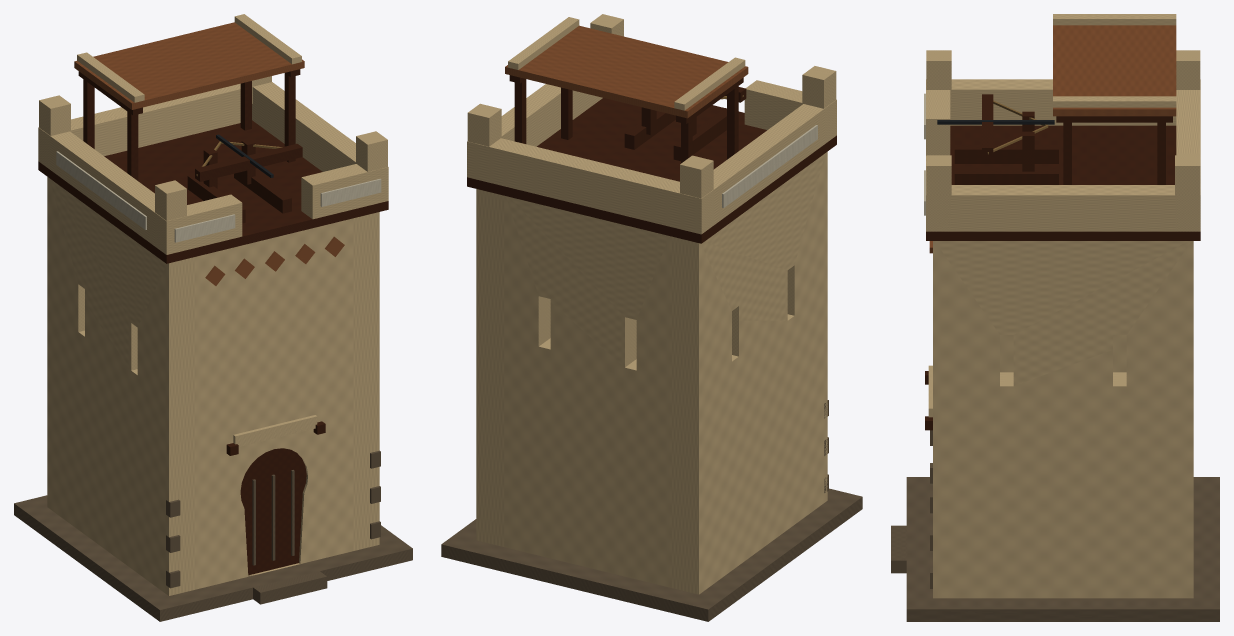
Rendered from Berber_Outpost_Age4_springald.fbx.
3 renders of one model, left to right at view 1: azimuth 30°, elevation 25°; view 2: azimuth 150°, elevation 25°; view 3: azimuth 270°, elevation 25°, orthographic. The views are drawn at different scales.
Parts seen in each view (by area): view 1: west_thick_wall, south_thick_wall, lookout_floor, tower_foundation, fitted_flat_canopy, east_thick_wall, lookout_parapet_back, horseshoe_door, lookout_parapet_side, lookout_parapet_side.001, lookout_parapet_front.001, lookout_parapet_front (+17 smaller); view 2: north_thick_wall, west_thick_wall, tower_foundation, lookout_parapet_back, lookout_floor, fitted_flat_canopy, east_thick_wall, lookout_parapet_side, lookout_parapet_side.001, lookout_parapet_front, neutral_owner_side_band, corner_merlon.003 (+9 smaller); view 3: east_thick_wall, tower_foundation, lookout_floor, lookout_parapet_side.001, fitted_flat_canopy, lookout_parapet_side, lookout_parapet_back, springald_stock_runner.001, springald_stock_runner, lookout_parapet_front, stone_crown_coping.001, stone_crown_coping (+13 smaller).
Boxes of the visible parts, left/top/right/bottom form: west_thick_wall: left=47, top=177, right=195, bottom=595; south_thick_wall: left=195, top=218, right=352, bottom=589; lookout_floor: left=38, top=120, right=388, bottom=263; tower_foundation: left=14, top=495, right=412, bottom=621; fitted_flat_canopy: left=74, top=22, right=304, bottom=109; east_thick_wall: left=353, top=212, right=379, bottom=550; lookout_parapet_back: left=38, top=83, right=240, bottom=168; horseshoe_door: left=240, top=448, right=306, bottom=575; lookout_parapet_side: left=49, top=131, right=160, bottom=248; lookout_parapet_side.001: left=252, top=82, right=355, bottom=171; lookout_parapet_front.001: left=301, top=164, right=388, bottom=219; lookout_parapet_front: left=155, top=194, right=242, bottom=254; north_thick_wall: left=504, top=196, right=670, bottom=587; west_thick_wall: left=671, top=152, right=827, bottom=594; tower_foundation: left=441, top=488, right=862, bottom=621; lookout_parapet_back: left=467, top=138, right=713, bottom=234; lookout_floor: left=467, top=98, right=836, bottom=243; fitted_flat_canopy: left=505, top=25, right=748, bottom=118; east_thick_wall: left=476, top=189, right=504, bottom=547; lookout_parapet_side: left=713, top=104, right=830, bottom=225; lookout_parapet_side.001: left=501, top=84, right=602, bottom=146; lookout_parapet_front: left=744, top=80, right=836, bottom=143; neutral_owner_side_band: left=722, top=125, right=817, bottom=207; corner_merlon.003: left=467, top=103, right=501, bottom=146; east_thick_wall: left=933, top=241, right=1193, bottom=598; tower_foundation: left=906, top=477, right=1219, bottom=621; lookout_floor: left=926, top=125, right=1200, bottom=240; lookout_parapet_side.001: left=938, top=185, right=1187, bottom=231; fitted_flat_canopy: left=1053, top=25, right=1176, bottom=116; lookout_parapet_side: left=950, top=79, right=1176, bottom=125; lookout_parapet_back: left=1176, top=79, right=1200, bottom=231; springald_stock_runner.001: left=954, top=169, right=1058, bottom=184; springald_stock_runner: left=954, top=145, right=1058, bottom=163; lookout_parapet_front: left=926, top=79, right=950, bottom=155; stone_crown_coping.001: left=1053, top=96, right=1176, bottom=107; stone_crown_coping: left=1053, top=14, right=1176, bottom=25.
Size of the model in its own units: 360 by 632 by 378.
Materials: 7 (7 with a texture image).
